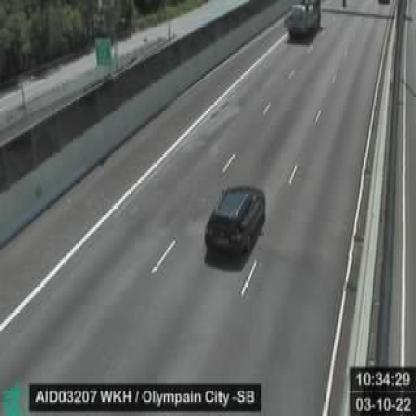Car: (203, 182, 265, 255)
Truck: (281, 0, 321, 40)
